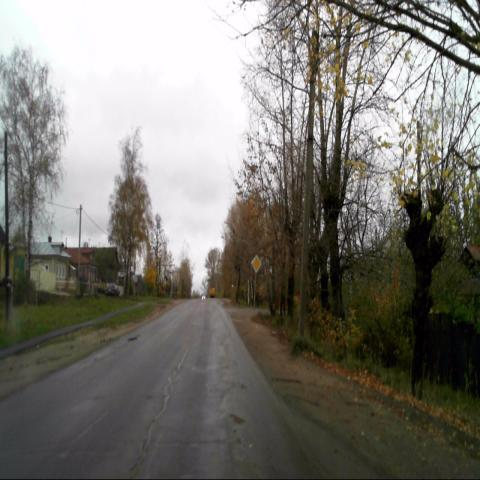2_1: (251, 253, 262, 273)
